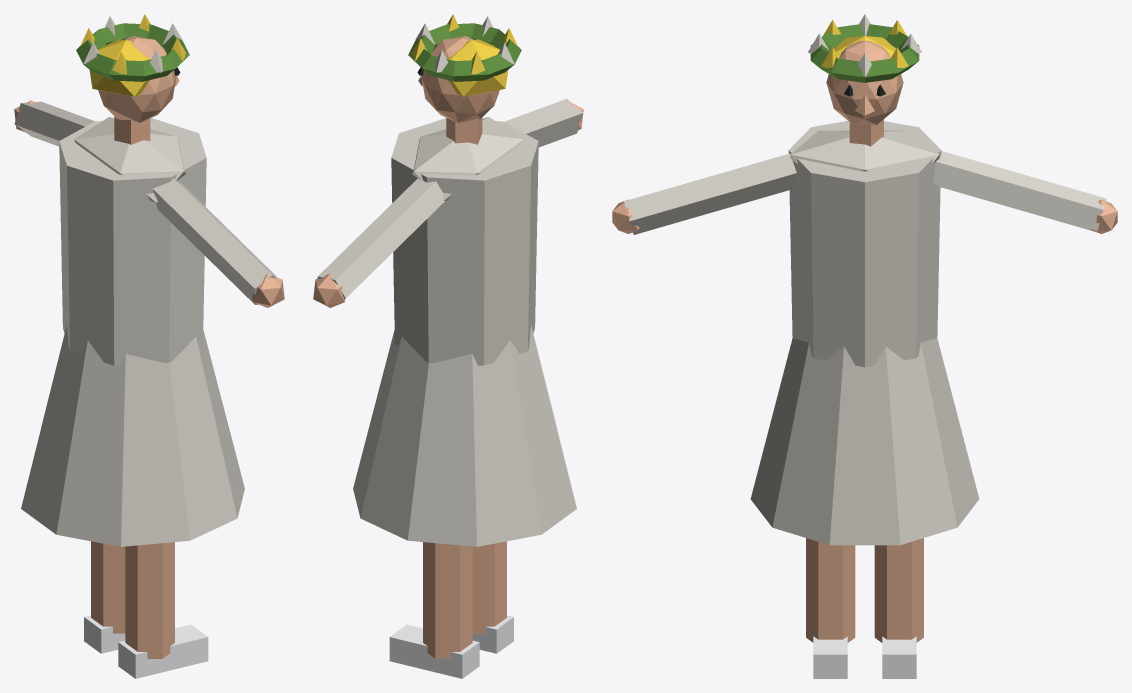
The model's file is dansare_1.glb.
3 views of the same model, side by side, from view 1: azimuth 30°, elevation 25°; view 2: azimuth 150°, elevation 25°; view 3: azimuth 270°, elevation 25° (orthographic).
Visible parts, largest first — view 1: dansare_1; view 2: dansare_1; view 3: dansare_1.
Boxes of the visible parts, x1,y1,x2,y2 form: dansare_1: (14,14,284,678); dansare_1: (313,14,583,678); dansare_1: (612,14,1117,678).
Size of the model in its own units: 0.5478 by 1.73 by 1.27.
